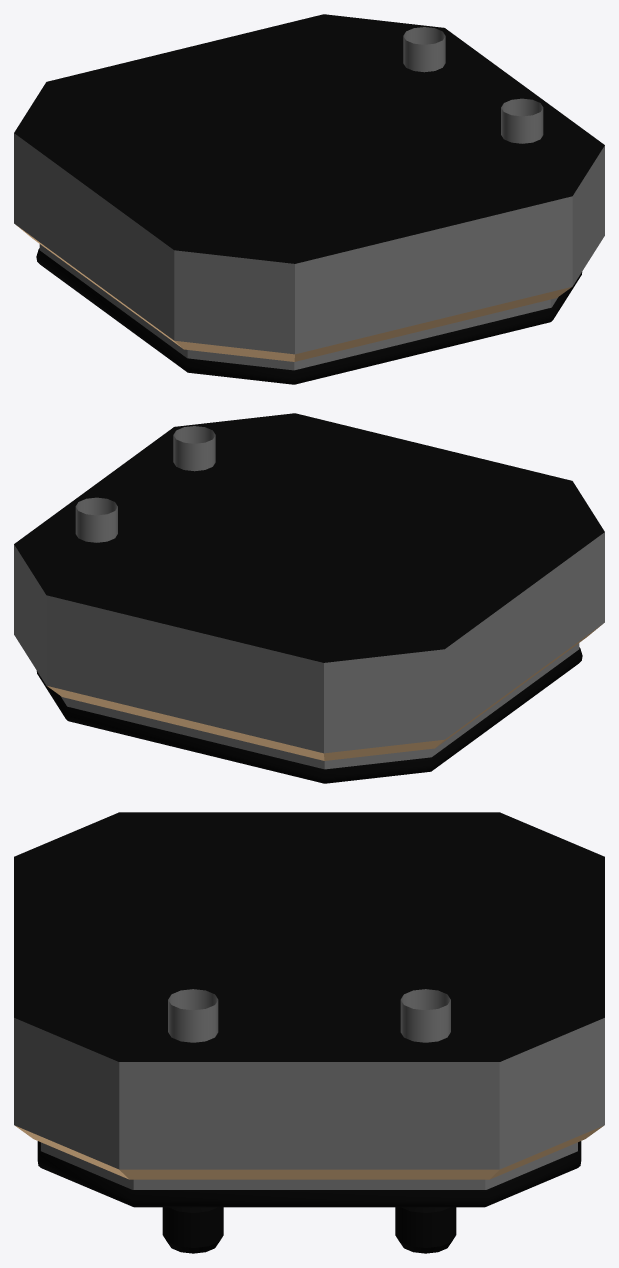
Rendered from Roof hole.fbx.
The picture shows the model from 3 angles, top to bottom: view 1: azimuth 30°, elevation 25°; view 2: azimuth 150°, elevation 25°; view 3: azimuth 270°, elevation 25°; orthographic projection. The views are drawn at different scales.
Visible parts, largest first — view 1: Cube.009; view 2: Cube.009; view 3: Cube.009.
Boxes of the visible parts, x1,y1,x2,y2 form: Cube.009: [14, 14, 604, 384]; Cube.009: [14, 413, 604, 783]; Cube.009: [14, 812, 604, 1253].
Bounding box in the file's own units: 200 × 90.86 × 200.
